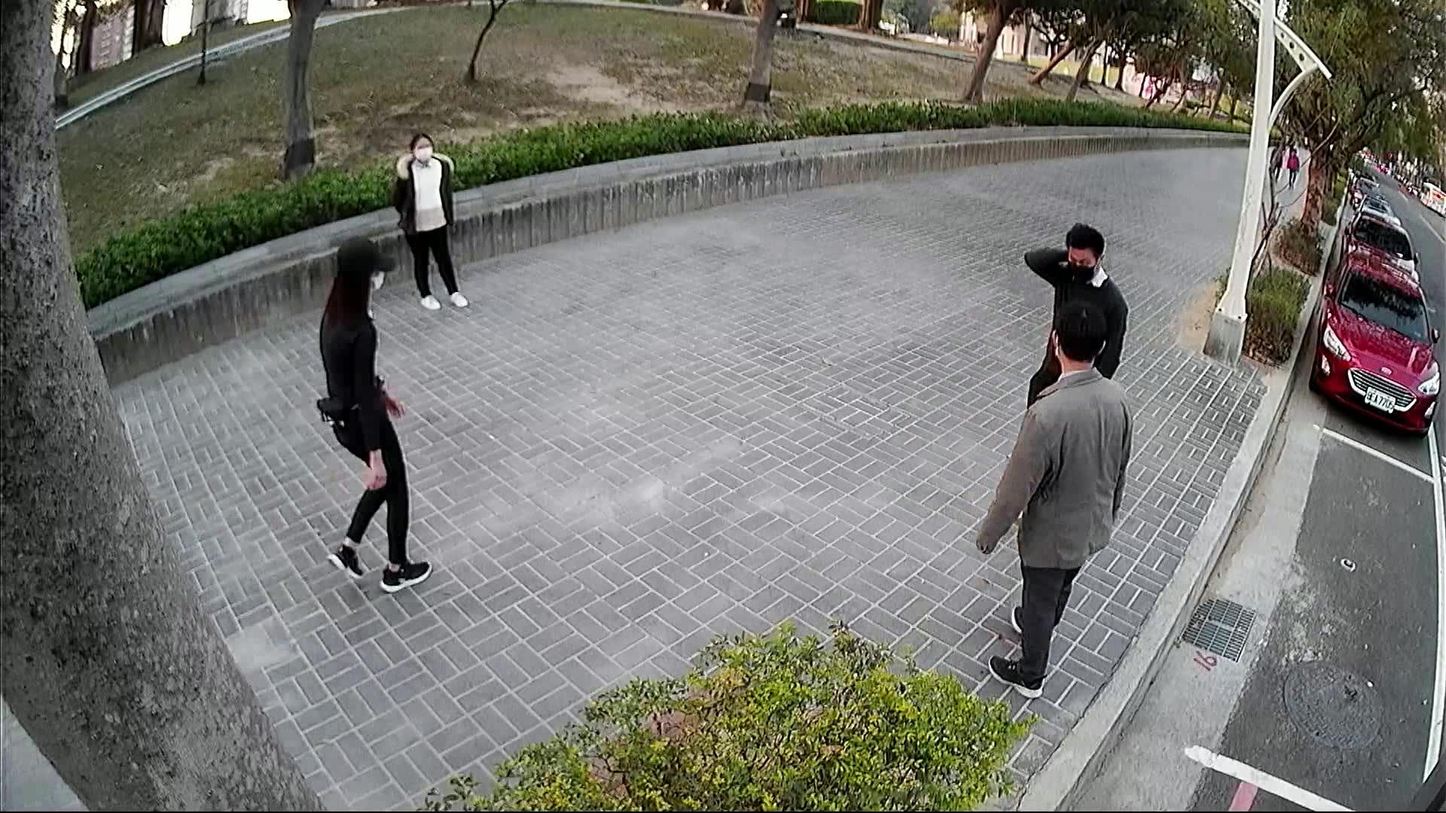person: (971, 295, 1135, 700), (306, 229, 439, 600), (1019, 215, 1132, 410), (384, 129, 471, 315)
